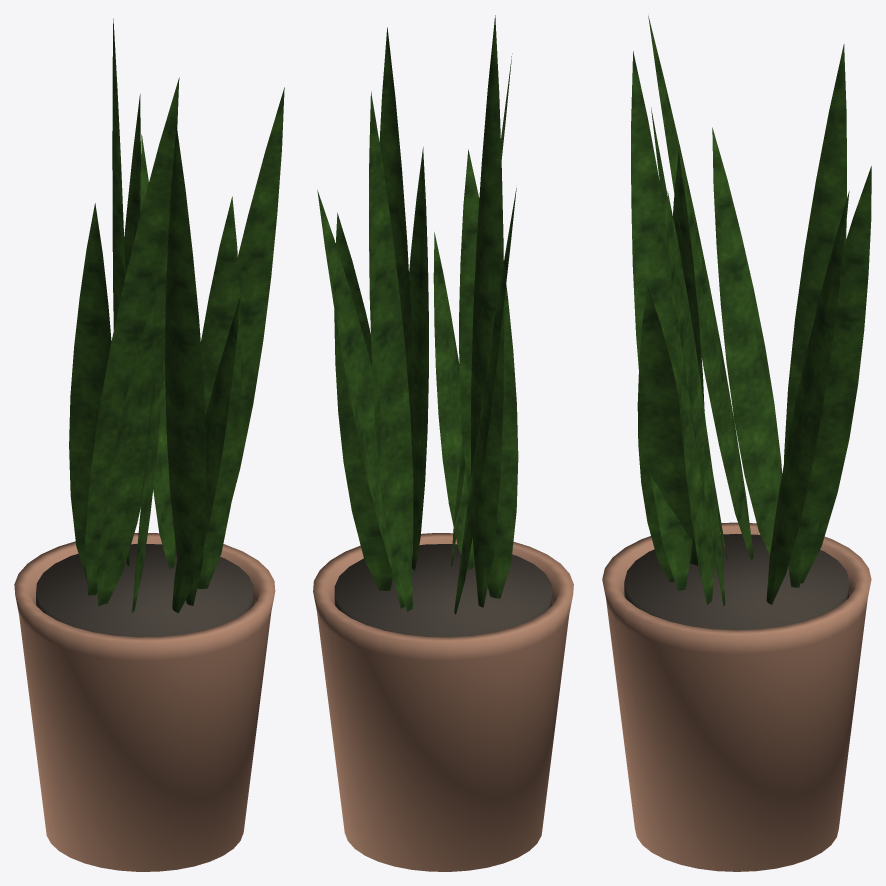
The model's file is corridor_plant_b.glb.
The picture shows the model from 3 angles, left to right: view 1: azimuth 30°, elevation 25°; view 2: azimuth 150°, elevation 25°; view 3: azimuth 270°, elevation 25°; orthographic projection. The views are drawn at different scales.
Parts seen in each view (by area): view 1: corridor_plant_b; view 2: corridor_plant_b; view 3: corridor_plant_b.
Boxes of the visible parts, x1,y1,x2,y2 form: corridor_plant_b: (14,18,284,871); corridor_plant_b: (313,15,573,871); corridor_plant_b: (602,16,871,871).
Size of the model in its own units: 0.2544 by 0.8447 by 0.2546.
Materials: 3 (1 with a texture image).
